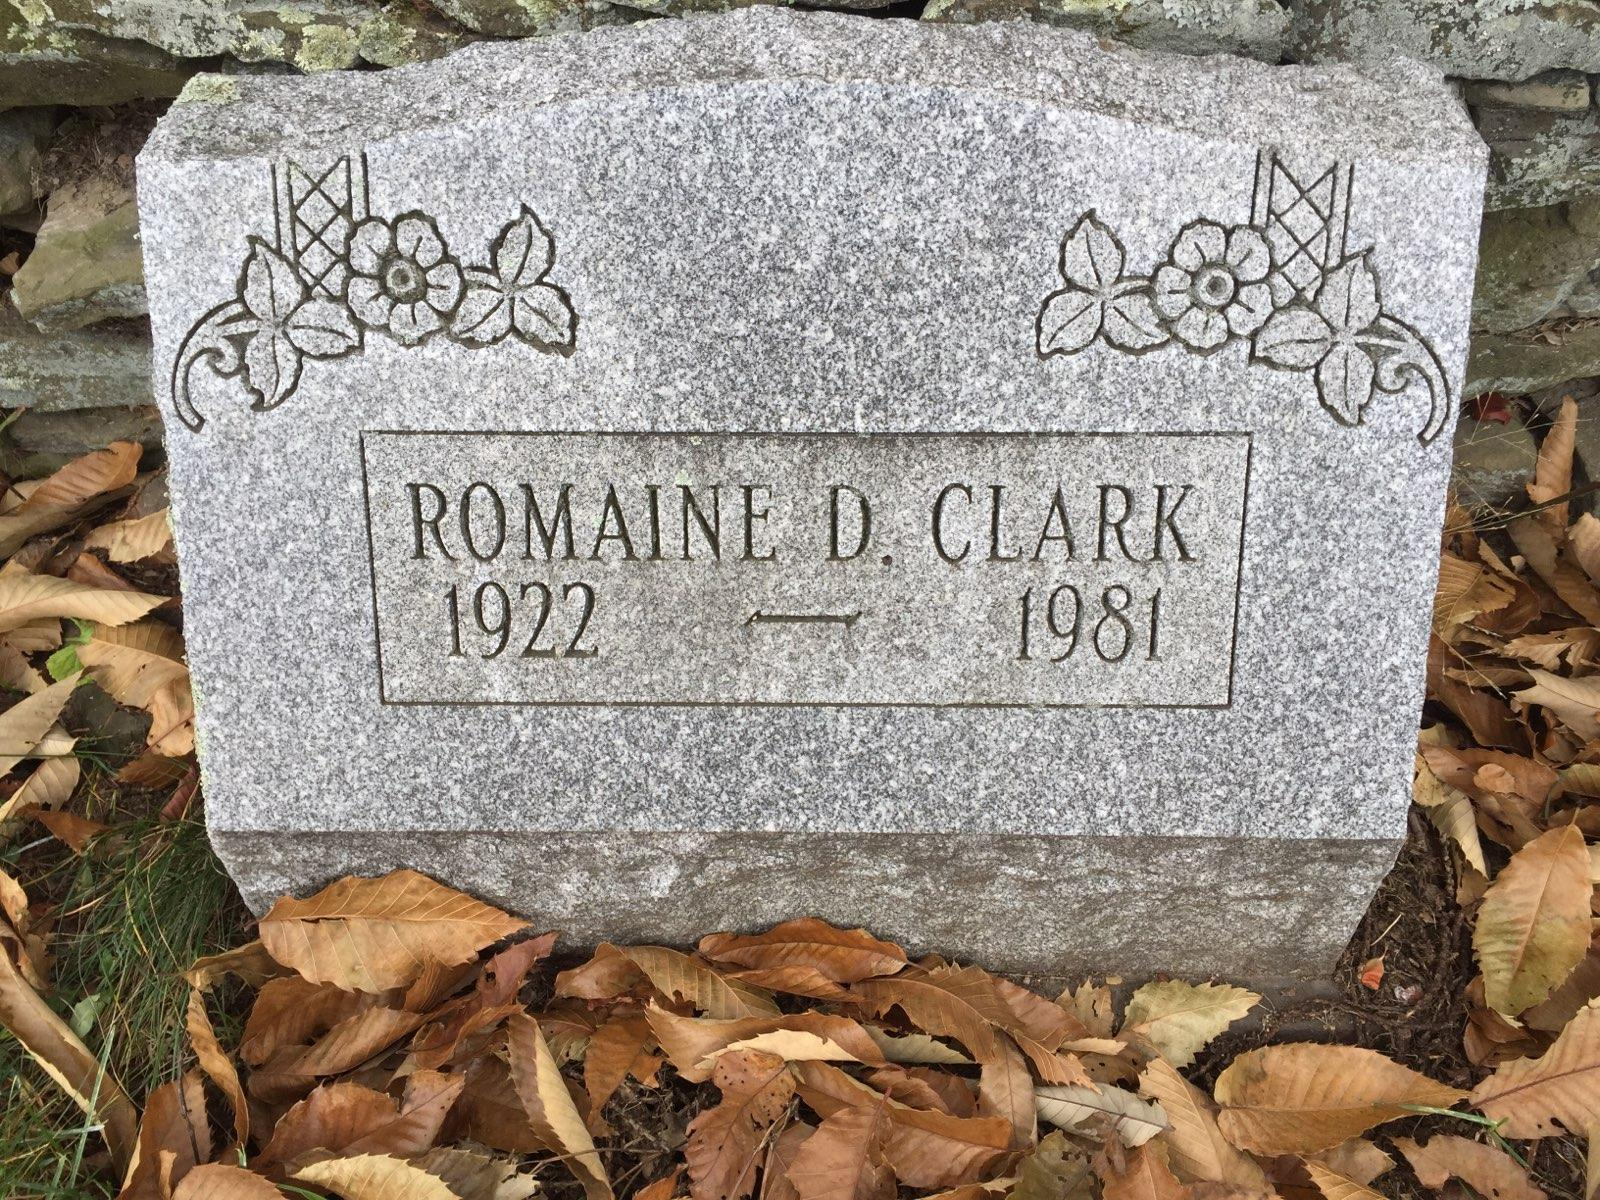upright: (113, 3, 1473, 991)
